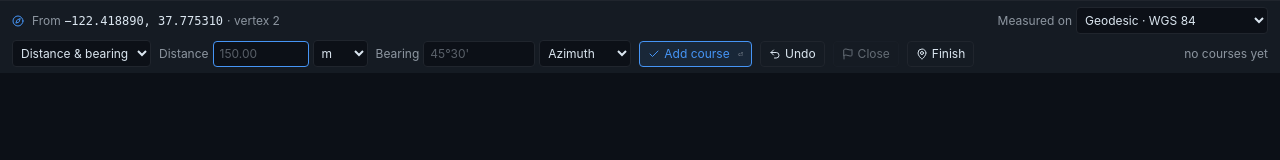
it: TraverseBar — transition courses › asks a spiral for its length and the radius it reaches
This screenshot has width=1280, height=160.
Step 1. Select "Spiral" in the dropdown titled "What kind of course" → (82, 54), box [12, 40, 151, 67]
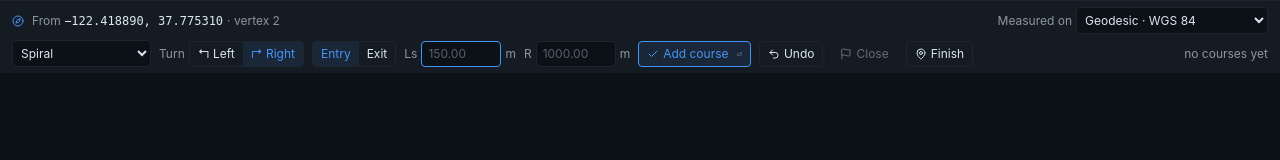
Result: the field with test id "draw.traverse.spiral.length" is shown at [421, 40, 501, 66]
Result: the field with test id "draw.traverse.spiral.radius" is shown at [536, 40, 616, 66]
Result: the button with test id "draw.traverse.spiral.in" is shown at [313, 42, 359, 66]
